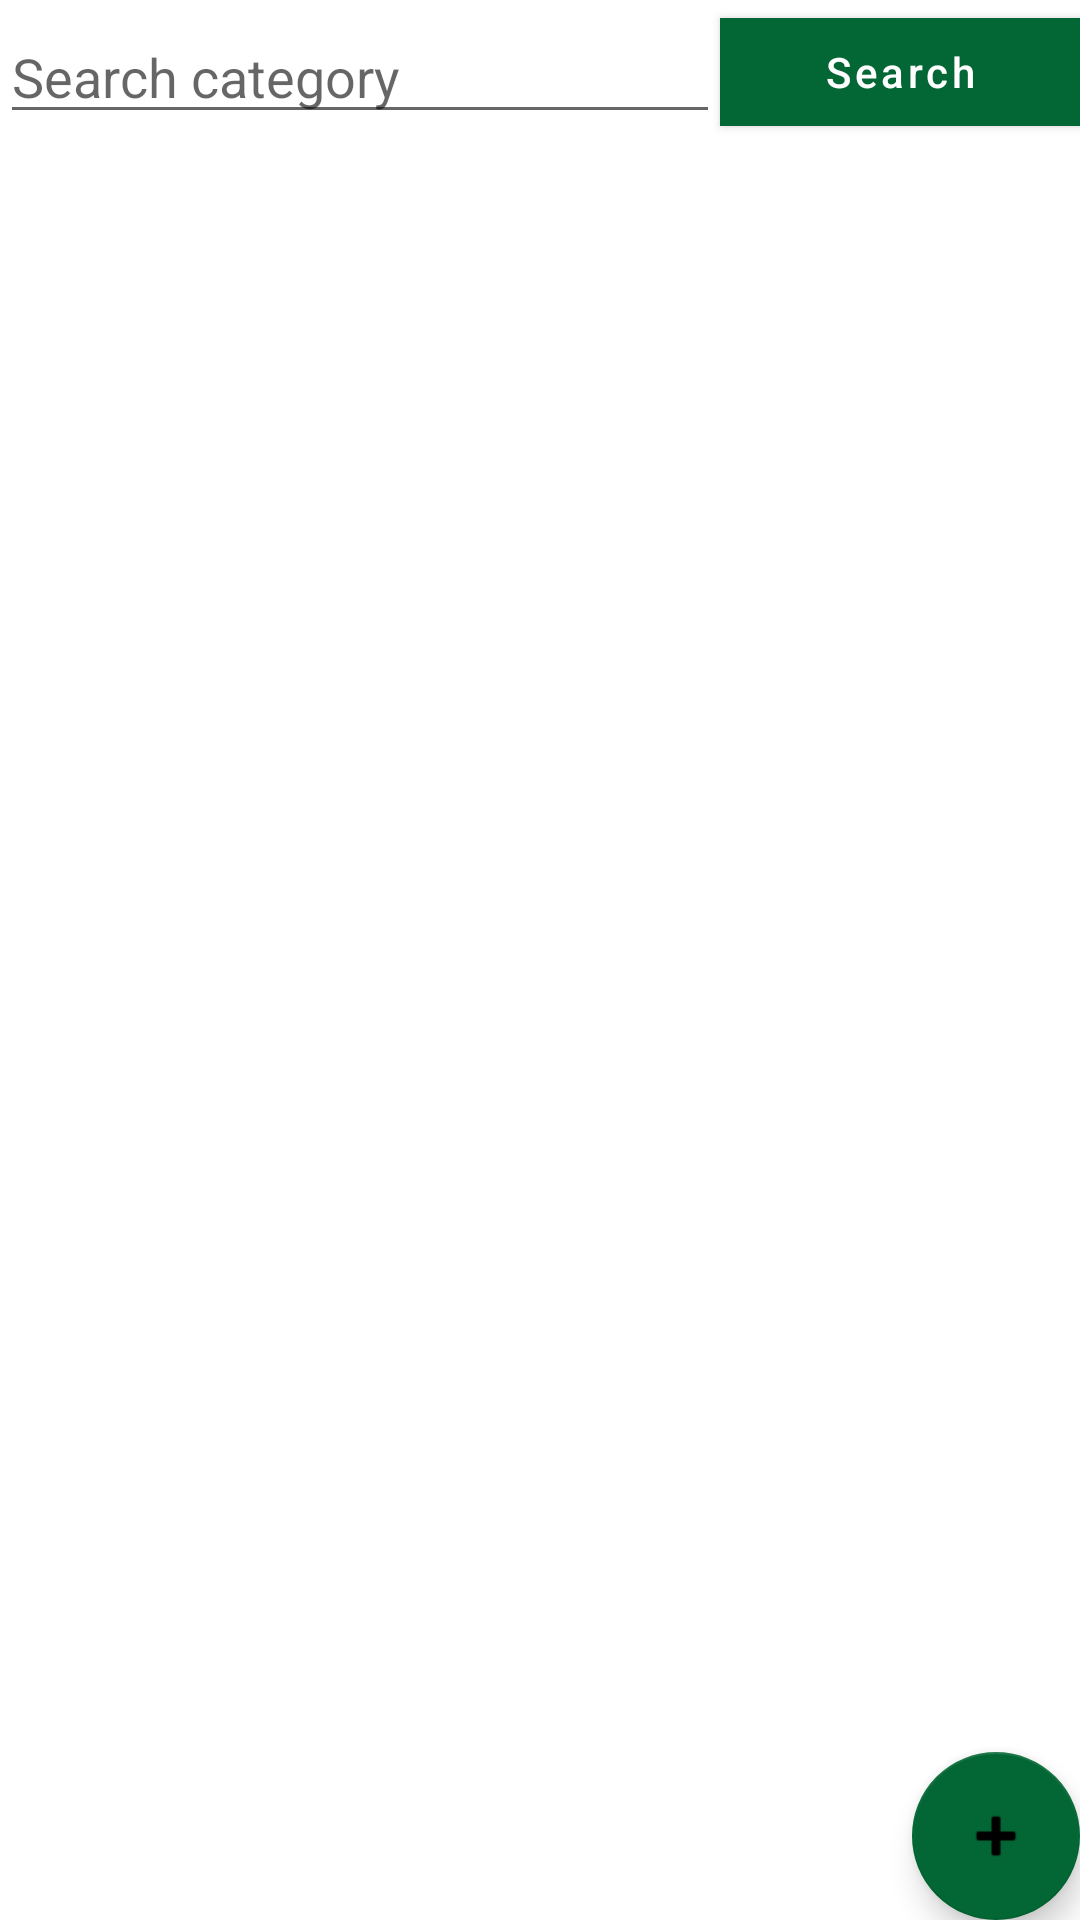

Where icons sit on this 1080px×1920px app screen, as Rect(x1, y1, x2, y2):
add: Rect(912, 1752, 1080, 1920)
